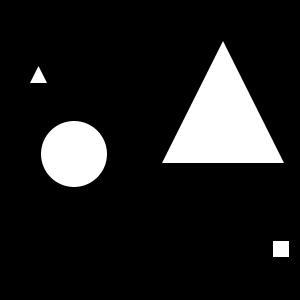circle: (273, 241, 289, 257)
rectangle: (41, 121, 107, 187)
triangle: (162, 41, 284, 163), (30, 66, 47, 83)
